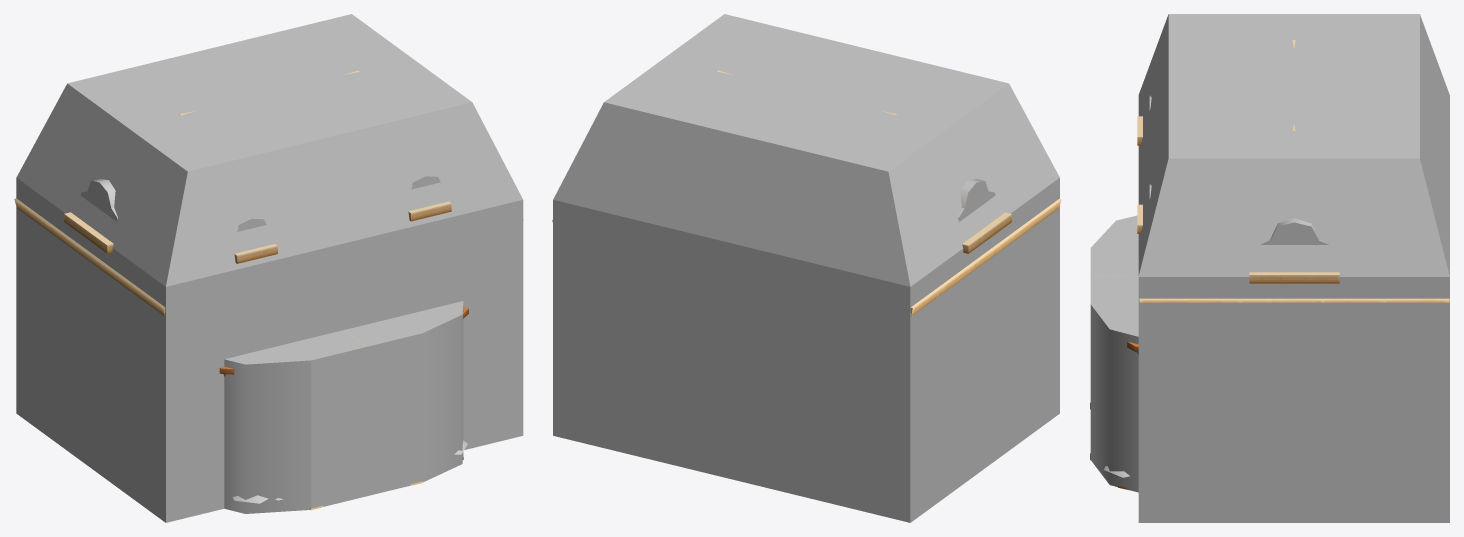
The model's file is hga001.FBX.
3 views of the same model, side by side, from view 1: azimuth 30°, elevation 25°; view 2: azimuth 150°, elevation 25°; view 3: azimuth 270°, elevation 25° (orthographic). The views are drawn at different scales.
Parts seen in each view (by area): view 1: m_box01, Object02, m_night01; view 2: m_box01, Object02, m_night01; view 3: m_box01, Object02, m_night01.
Boxes of the visible parts, bbox=[...] form: m_box01: bbox=[16, 14, 523, 522]; Object02: bbox=[14, 70, 523, 509]; m_night01: bbox=[80, 176, 440, 231]; m_box01: bbox=[553, 14, 1059, 522]; Object02: bbox=[552, 70, 1061, 316]; m_night01: bbox=[958, 181, 995, 222]; m_box01: bbox=[1090, 14, 1449, 522]; Object02: bbox=[1090, 40, 1449, 490]; m_night01: bbox=[1261, 222, 1328, 244].
Size of the model in its own units: 8.16 by 7.08 by 6.66.
